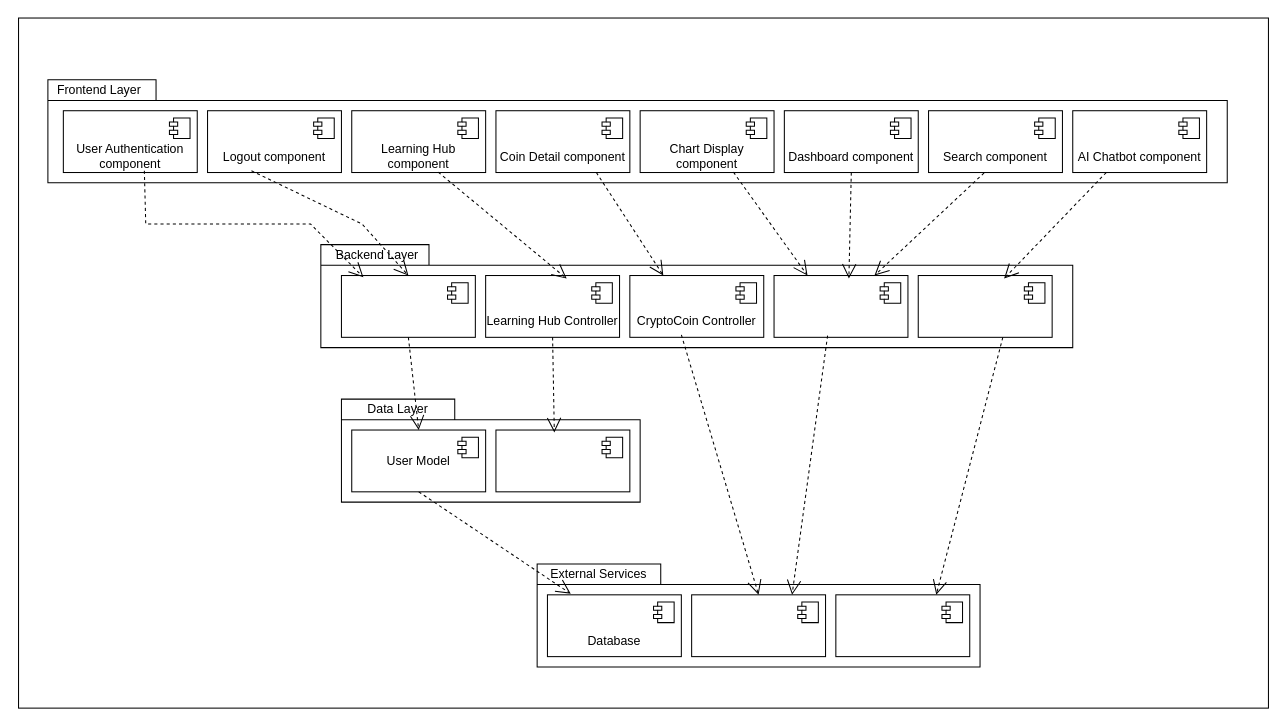
Some shapes in this 1286 by 726 pixel diagram are drawn without their labels. The box of each missing label's shape, as (x1, y1, x2, y2) in pixels:
Authentication Controller: (340, 274, 475, 337)
Chatbot Controller: (917, 274, 1052, 337)
Coingecko API: (691, 594, 826, 657)
Dashboard Controller: (773, 274, 908, 337)
Gemini API: (835, 594, 970, 657)
Learning Hub Model: (495, 429, 630, 492)
